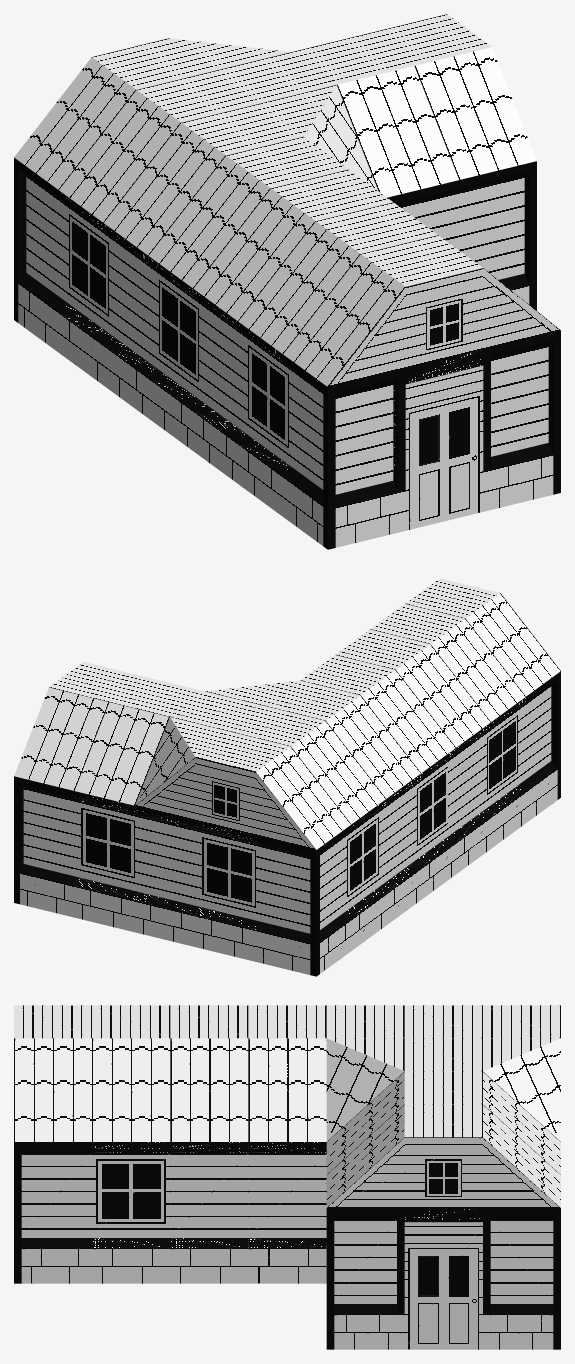
File: house_2.glb
The picture shows the model from 3 angles, top to bottom: view 1: azimuth 30°, elevation 25°; view 2: azimuth 150°, elevation 25°; view 3: azimuth 270°, elevation 25°; orthographic projection. The views are drawn at different scales.
Visible parts, largest first — view 1: hc_house2; view 2: hc_house2; view 3: hc_house2.
Part boxes in pixels (bbox=[...]): hc_house2: bbox=[14, 14, 560, 549]; hc_house2: bbox=[14, 578, 560, 976]; hc_house2: bbox=[14, 1005, 560, 1349].
Bounding box in the file's own units: 5 × 3 × 7.
Materials: 3 (3 with a texture image).
